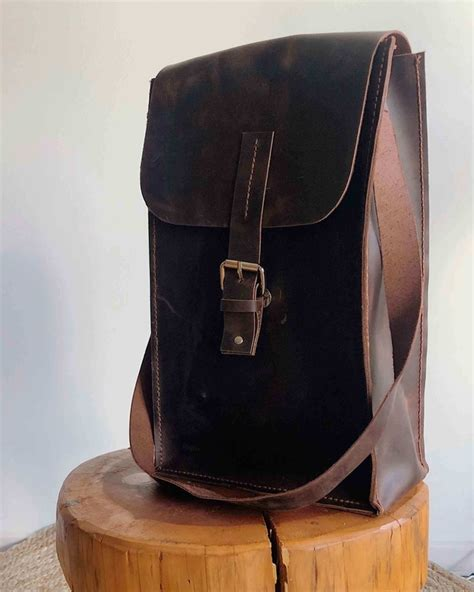cuero: (129, 29, 437, 520)
